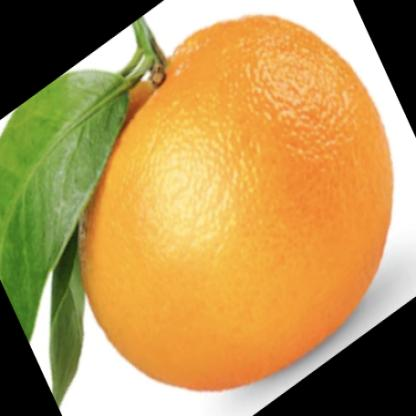fresh: (77, 12, 395, 391)
